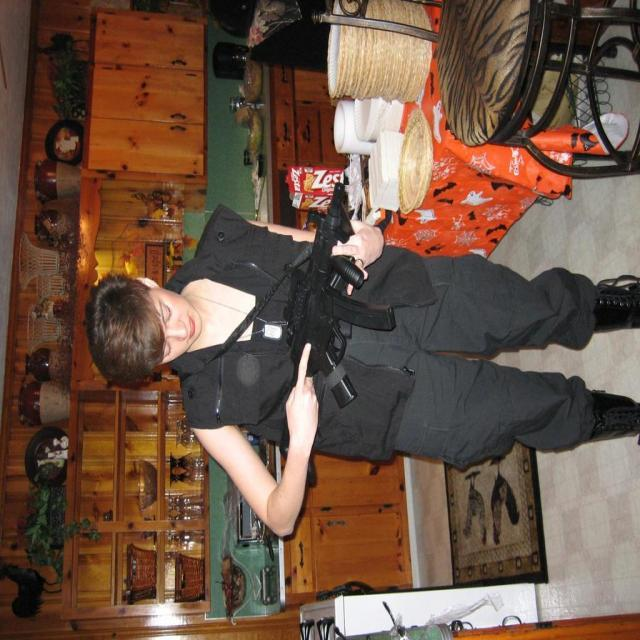weapon: (286, 185, 395, 484)
